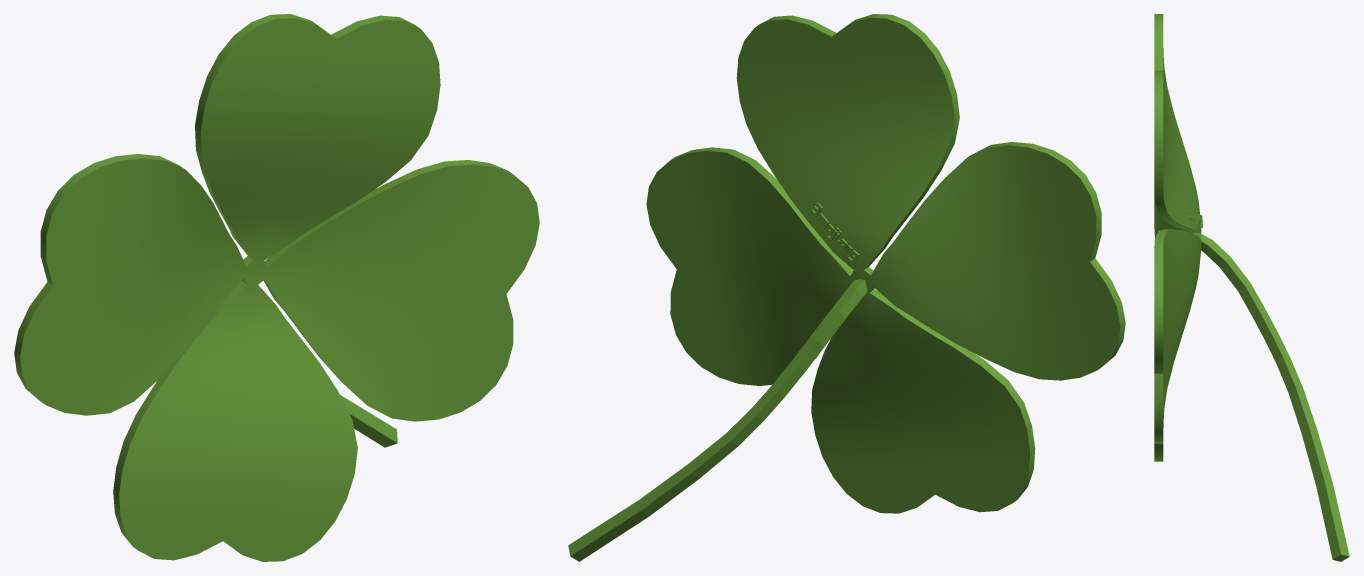
File: four_leaf_clover.gltf
3 views of the same model, side by side, from view 1: azimuth 30°, elevation 25°; view 2: azimuth 150°, elevation 25°; view 3: azimuth 270°, elevation 25° (orthographic). The views are drawn at different scales.
Visible parts, largest first — view 1: Cube.178; view 2: Cube.178; view 3: Cube.178.
Part boxes in pixels (<box>): Cube.178: <box>14,14,539,561</box>; Cube.178: <box>568,14,1125,561</box>; Cube.178: <box>1154,14,1349,561</box>.
Size of the model in its own units: 2.12 by 2.22 by 0.8633.
1 material, 1 textured.
